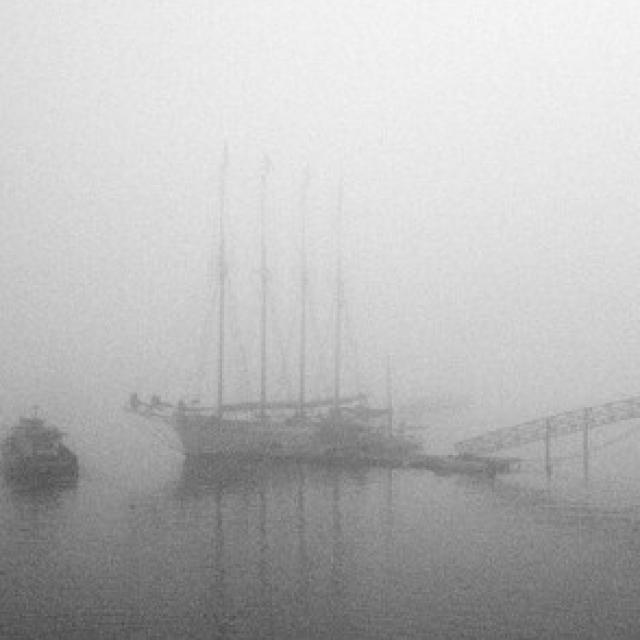fishing boat: (124, 157, 433, 486), (0, 411, 94, 501)
